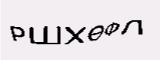Е: (56, 26, 73, 47)
Н: (34, 24, 54, 48), (75, 27, 91, 49)
О: (105, 23, 121, 44)
Я: (90, 29, 105, 47)
